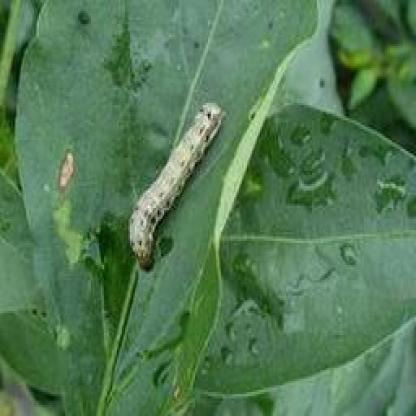armyworm: (123, 98, 227, 280)
